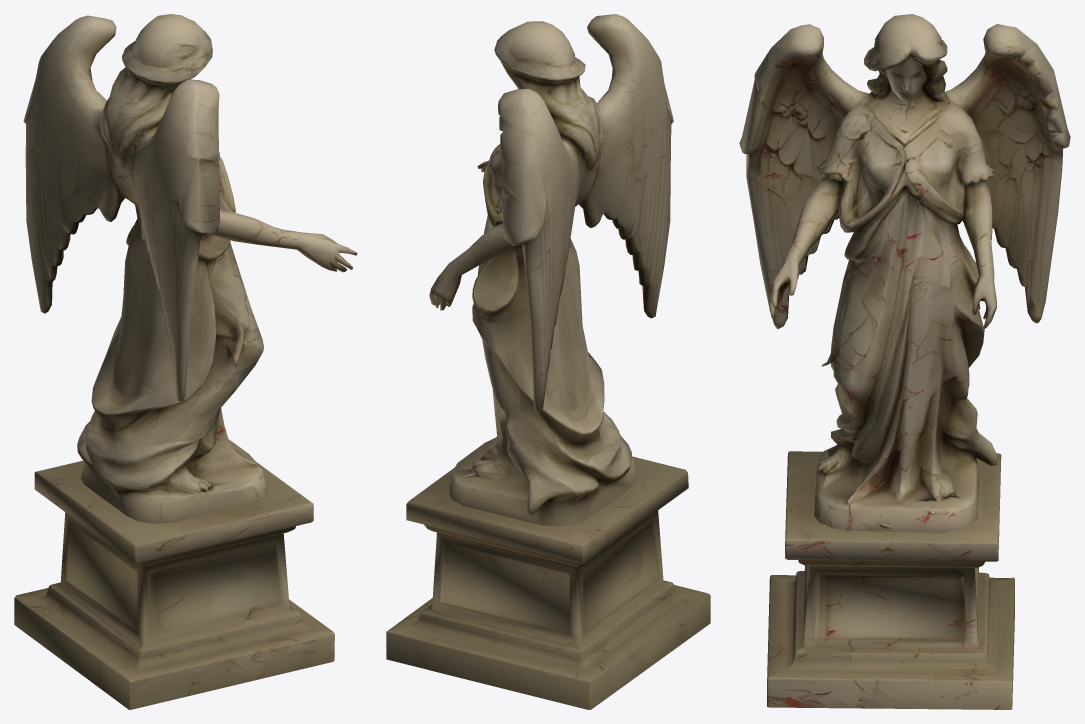
File: garden_statue.glb
The picture shows the model from 3 angles, left to right: view 1: azimuth 30°, elevation 25°; view 2: azimuth 150°, elevation 25°; view 3: azimuth 270°, elevation 25°; orthographic projection. The views are drawn at different scales.
Visible parts, largest first — view 1: tripo_node_ce723342-b6a4-4c96-a764-42d573eeadbe; view 2: tripo_node_ce723342-b6a4-4c96-a764-42d573eeadbe; view 3: tripo_node_ce723342-b6a4-4c96-a764-42d573eeadbe.
Part boxes in pixels (x1,y1,x2,y2): tripo_node_ce723342-b6a4-4c96-a764-42d573eeadbe: [14, 14, 357, 709]; tripo_node_ce723342-b6a4-4c96-a764-42d573eeadbe: [386, 14, 710, 709]; tripo_node_ce723342-b6a4-4c96-a764-42d573eeadbe: [739, 14, 1070, 709].
Size of the model in its own units: 0.3887 by 0.998 by 0.4668.
Materials: 1 (1 with a texture image).
